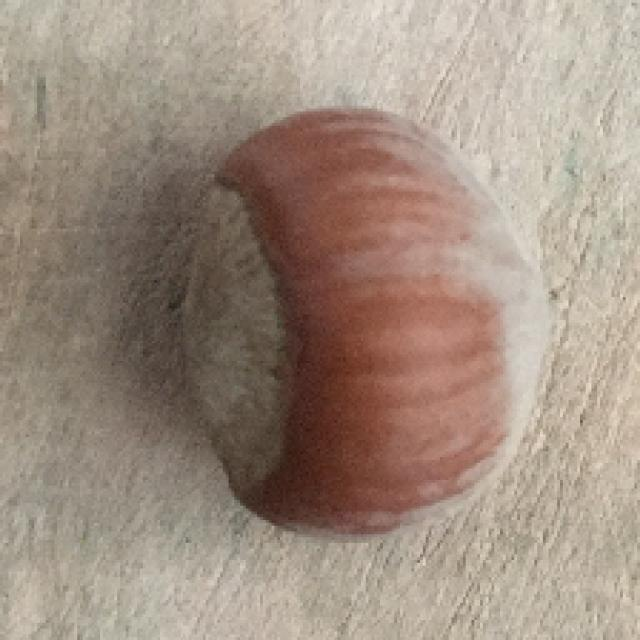qualityHazelnut: (182, 103, 560, 543)
